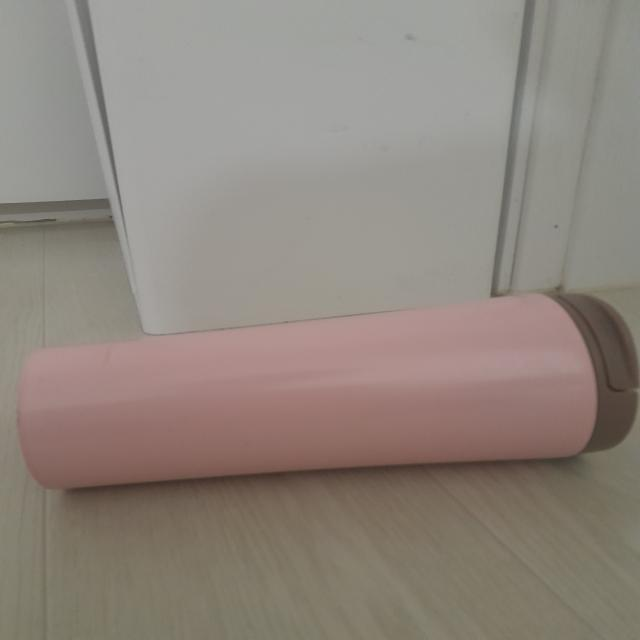waterbottle: (30, 292, 638, 489)
